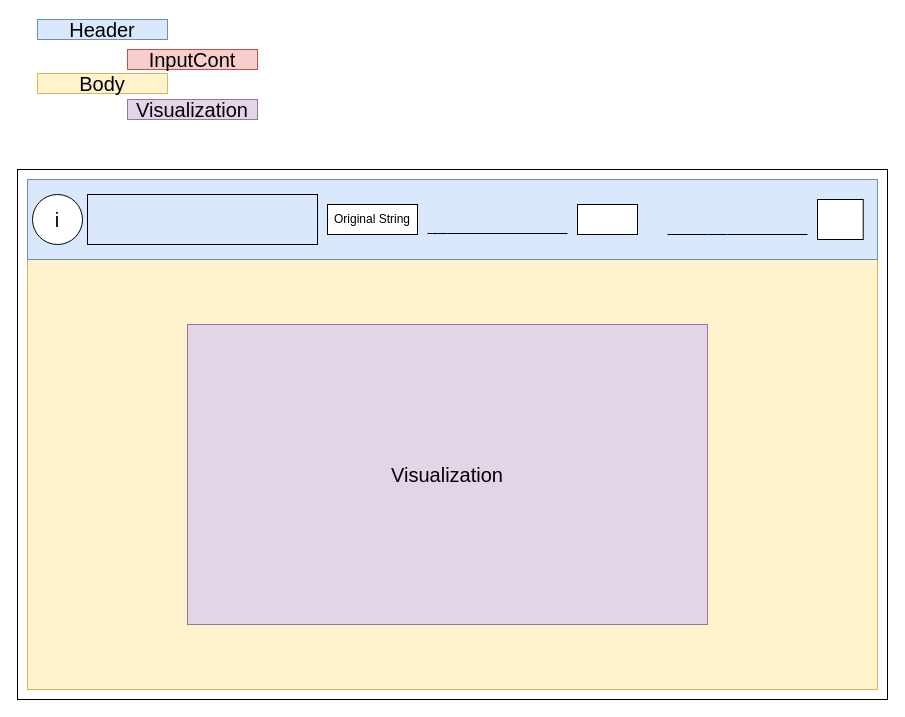
This 905x717 diagram has some shape labels left out. Each missing label, with the centre of its shape:
"Aho-Corasick Automata Visualizer" belongs at [202,219].
"Go" belongs at [839,219].
"Substring" belongs at [607,219].
